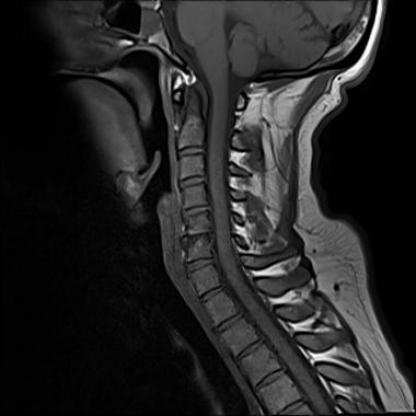Degenerative Disc Diseaserotation: (179, 232, 215, 247)
Disc Bulgerotation: (184, 257, 218, 273)
Disc Protrusionrotation: (179, 231, 215, 246), (179, 204, 213, 218)
